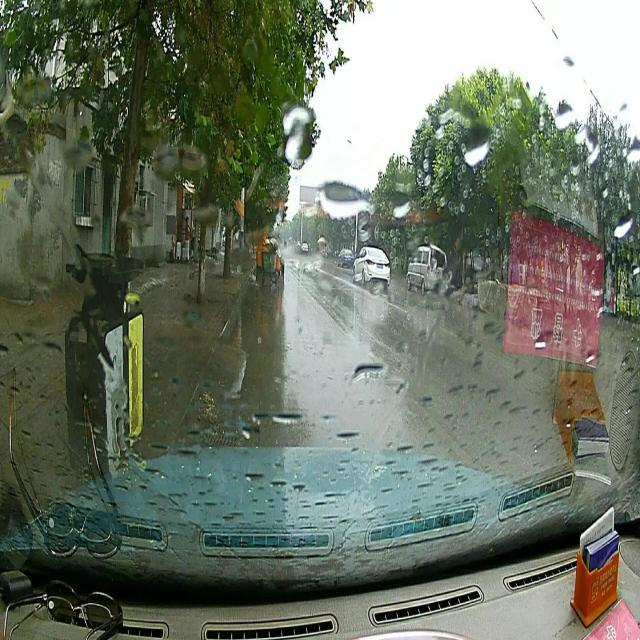car: (403, 242, 449, 294), (352, 246, 390, 288), (334, 247, 352, 266)
